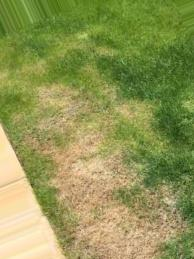patch: (62, 148, 110, 205), (42, 92, 93, 142), (96, 212, 157, 251)
